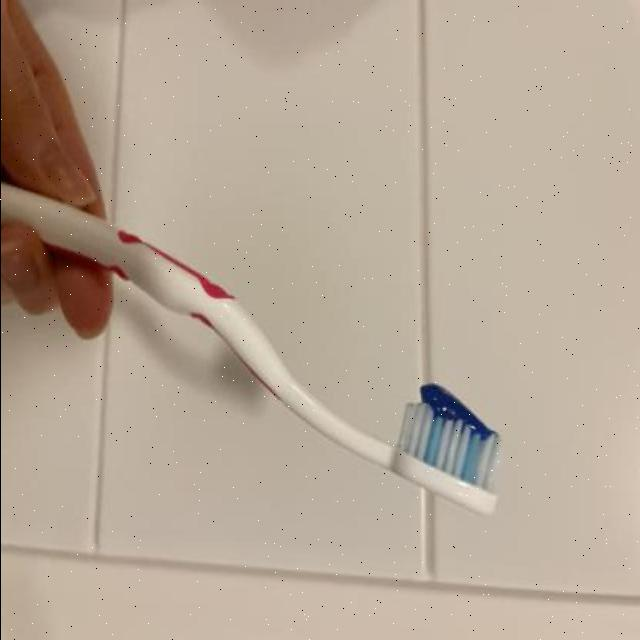toothbrush: (1, 172, 510, 524)
